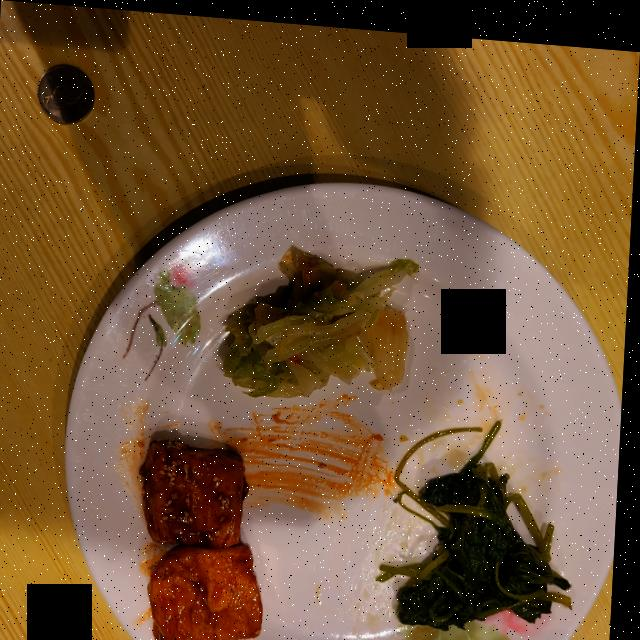cabbage: (227, 241, 419, 392)
coin: (38, 64, 94, 123)
creamy tofu: (144, 436, 268, 640)
sweet potato leaves: (383, 411, 577, 622)
